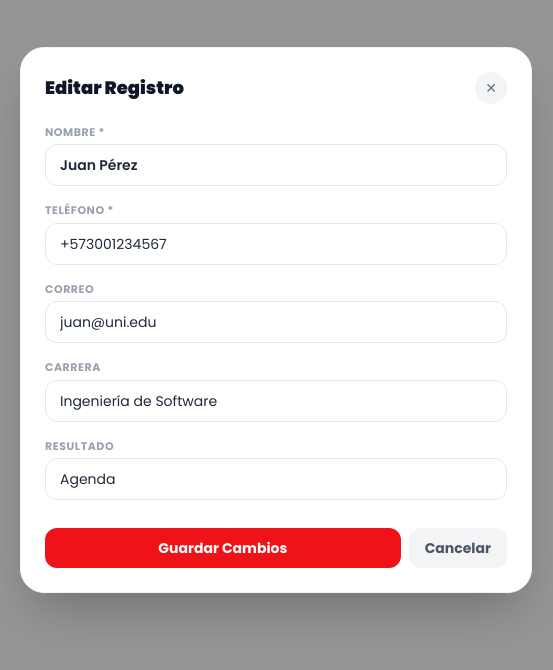
RecordEditModal › should show error when save fails
Click the button "Guardar Cambios" at (223, 548), box [45,528,401,568]
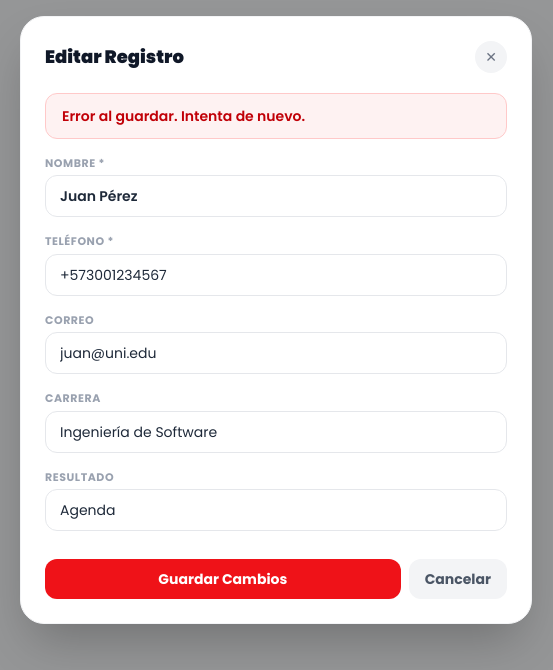
Now the text "Error al guardar. Intenta de nuevo." is shown, box [45,93,507,139]
